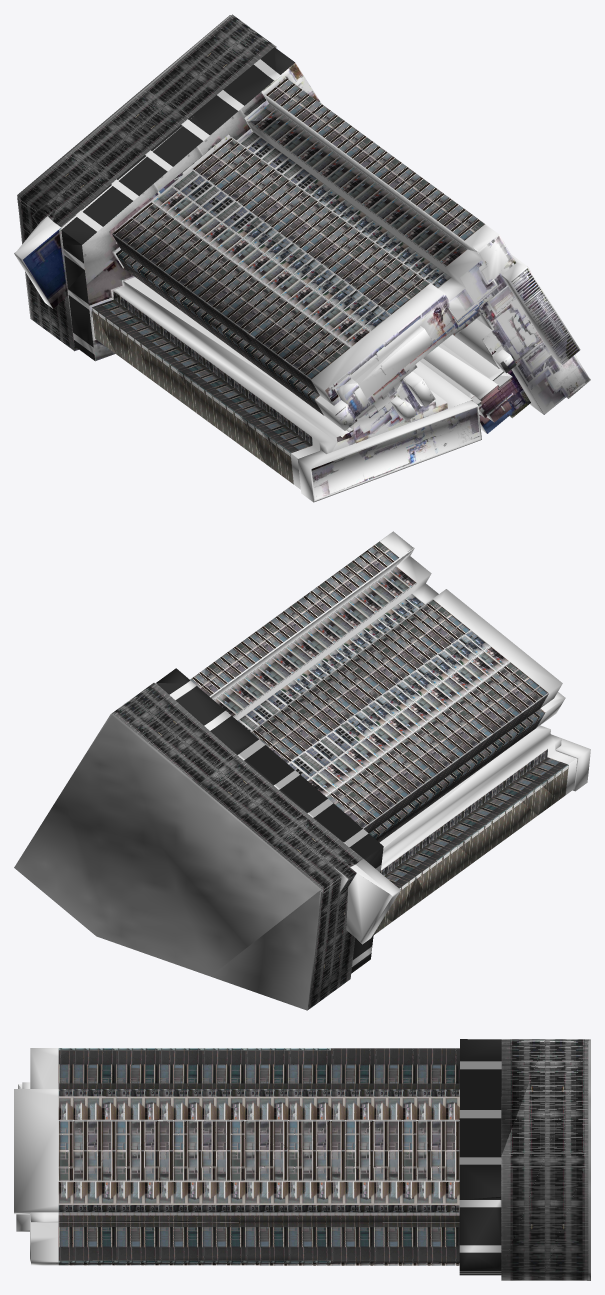
The model's file is amk_centro_building.obj.
3 views of the same model, one above another, from view 1: azimuth 30°, elevation 25°; view 2: azimuth 150°, elevation 25°; view 3: azimuth 270°, elevation 25° (orthographic). The views are drawn at different scales.
Parts seen in each view (by area): view 1: polygon.874; view 2: polygon.874; view 3: polygon.874.
Boxes of the visible parts, x1,y1,x2,y2 form: polygon.874: [14, 14, 590, 502]; polygon.874: [14, 531, 590, 1010]; polygon.874: [14, 1039, 590, 1280].
Bounding box in the file's own units: 81.94 × 56.6 × 115.
Materials: 1 (1 with a texture image).
